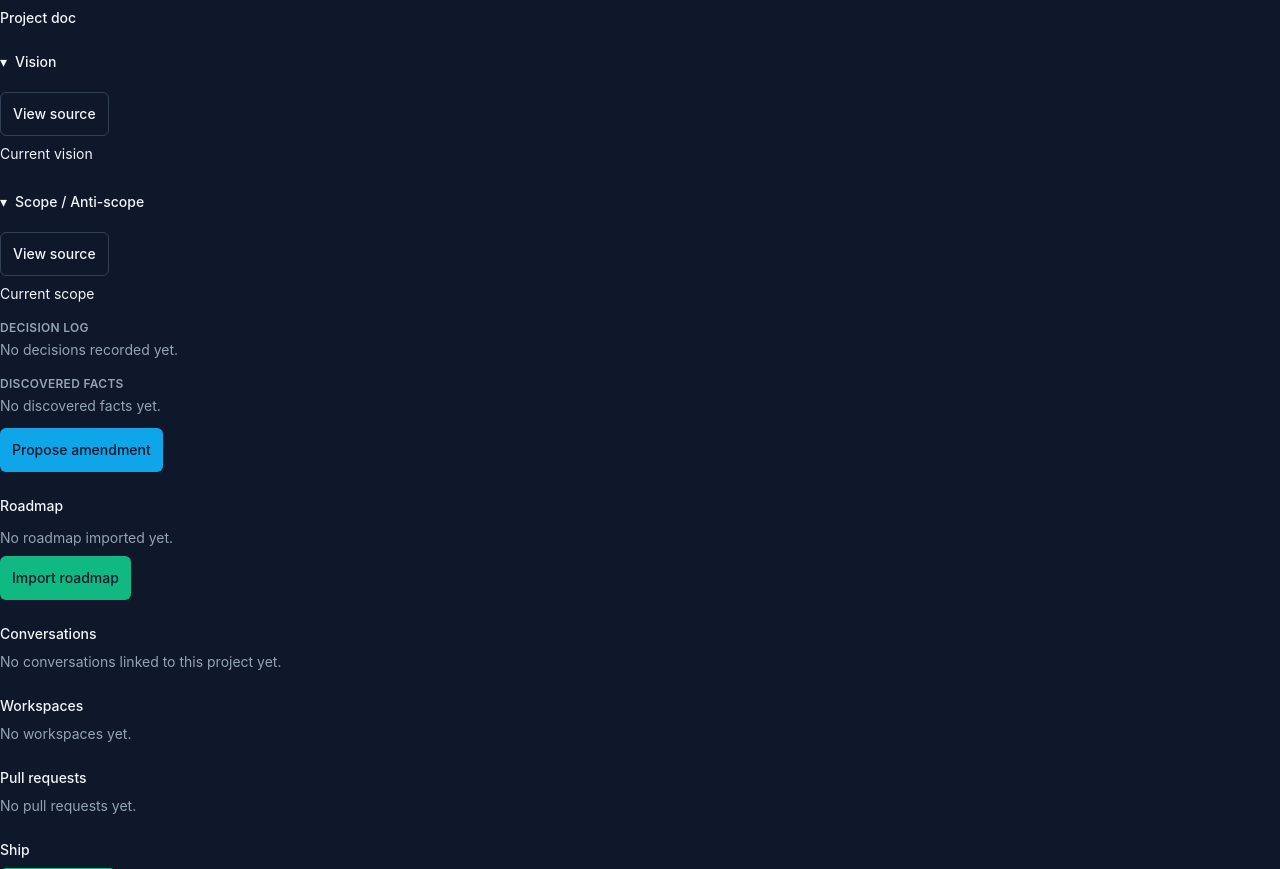
Test: Project › propose-amendment action › opens a modal prefilled with the current vision/scope
(page scrolled)
Click the button with test id "propose-amendment-button".
click(81, 450)  # box [0,428,163,472]
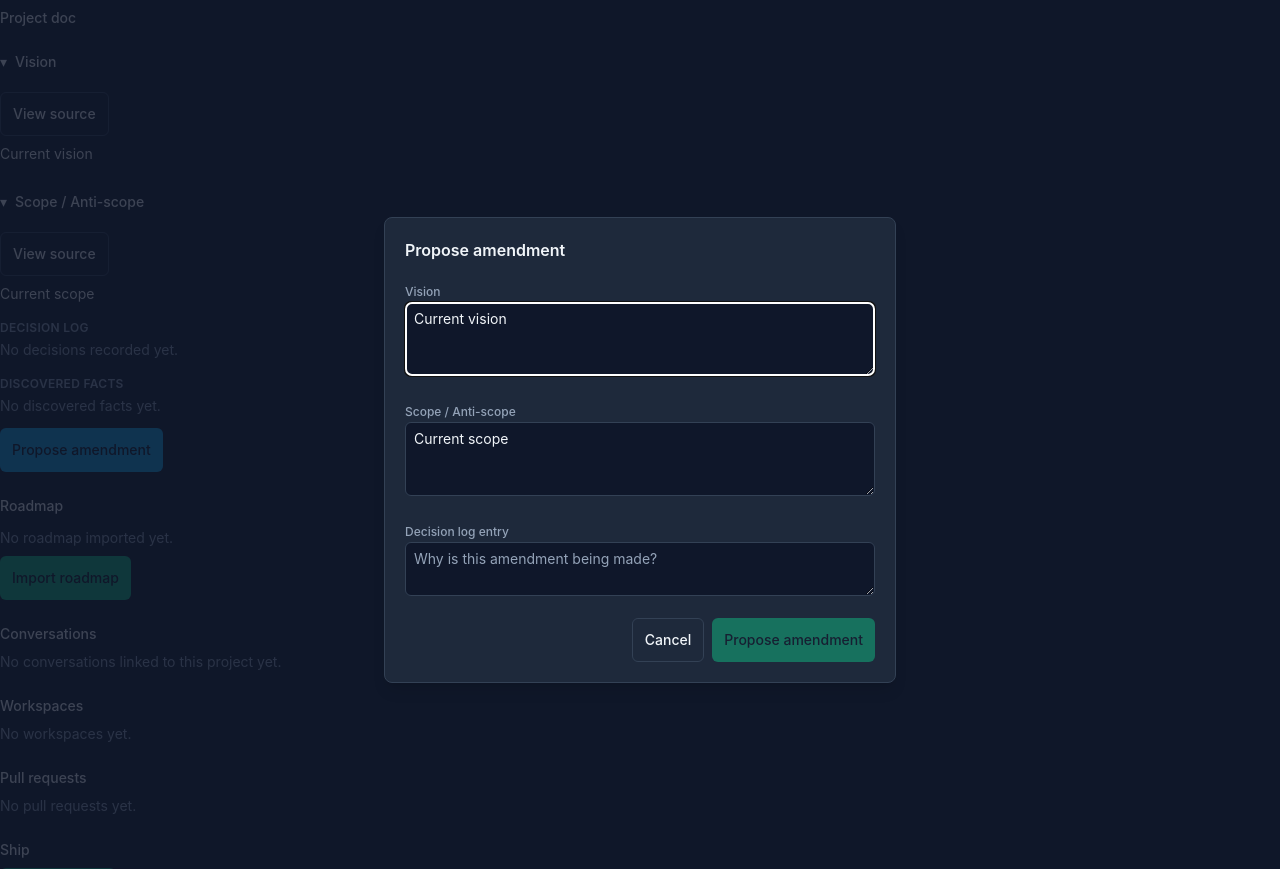
Expected: the dialog with test id "propose-amendment-dialog" is shown, [384,217,896,683]
Expected: the text box with test id "amendment-vision" holds "Current vision", [405,302,875,376]
Expected: the text box with test id "amendment-scope" holds "Current scope", [405,422,875,496]
